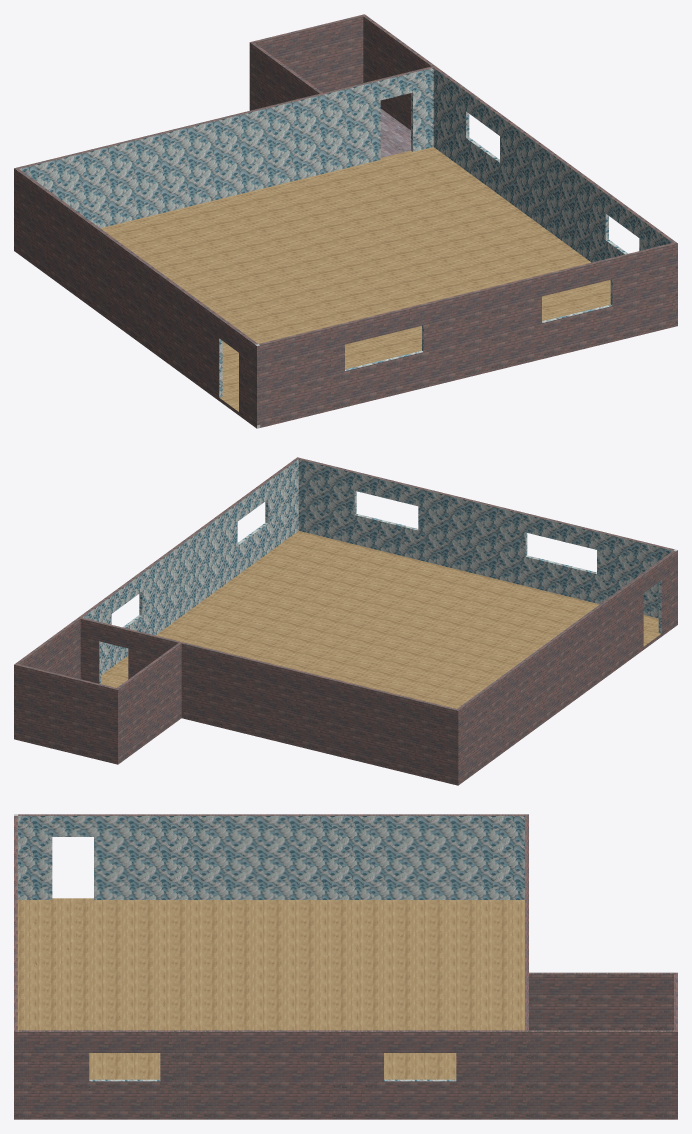
Rendered from Level3.dae.
The picture shows the model from 3 angles, top to bottom: view 1: azimuth 30°, elevation 25°; view 2: azimuth 150°, elevation 25°; view 3: azimuth 270°, elevation 25°; orthographic projection. The views are drawn at different scales.
Visible parts, largest first — view 1: Main_room-col, Elevator-col; view 2: Main_room-col, Elevator-col; view 3: Main_room-col, Elevator-col.
Boxes of the visible parts, x1,y1,x2,y2 form: Main_room-col: [14, 65, 677, 428]; Elevator-col: [249, 14, 434, 157]; Main_room-col: [78, 457, 677, 785]; Elevator-col: [14, 618, 181, 764]; Main_room-col: [14, 814, 528, 1119]; Elevator-col: [529, 972, 677, 1119].
Size of the model in its own units: 32 by 41.25 by 6.
8 materials, 6 textured.
